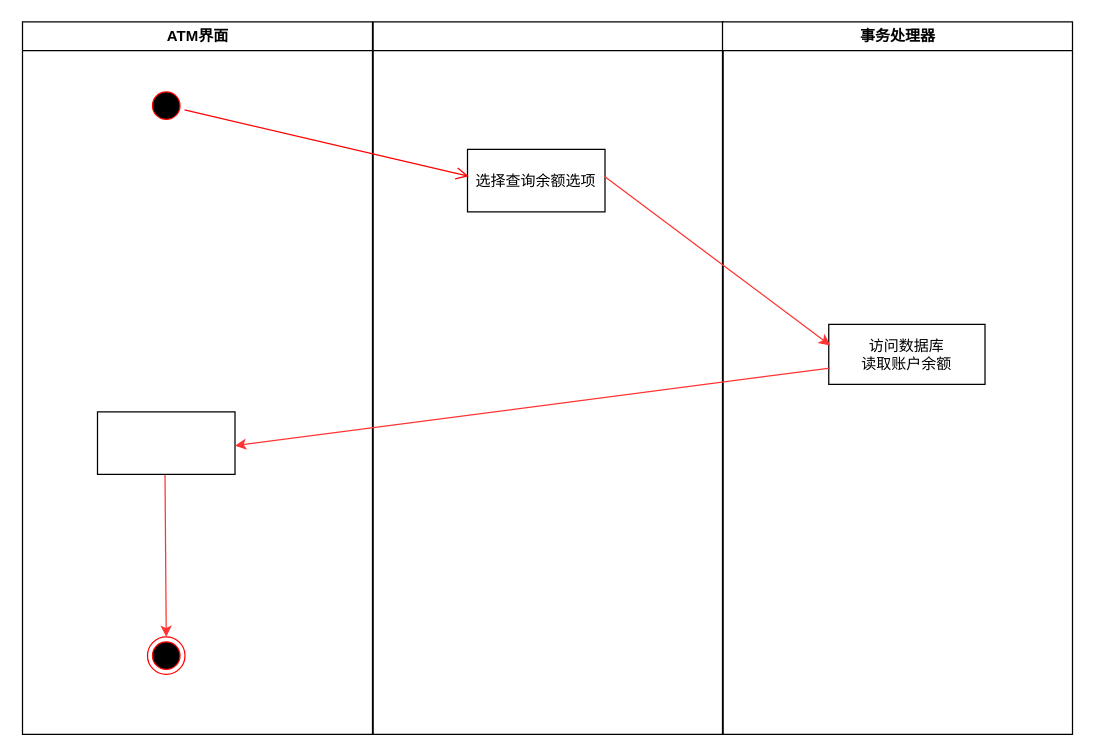
This 1094x756 diagram has some shape labels left out. The shapes that lost their labels are listed below. From the top down, each one's box as (x1, y1, x2, y2) in pixels, then its label:
(372, 21, 723, 734): 用户
(96, 411, 235, 474): 显示余额
